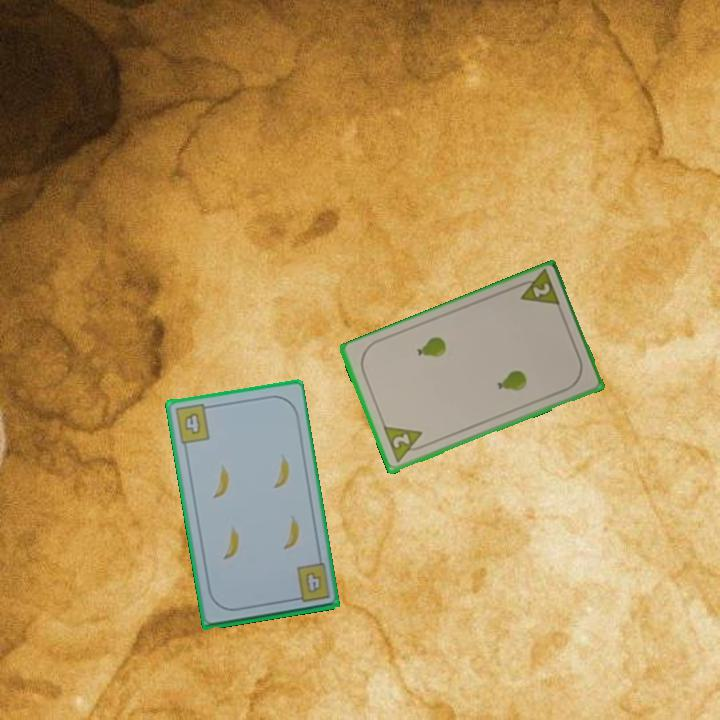2p: (511, 267, 563, 310), (379, 423, 430, 466)
4b: (288, 560, 333, 605), (171, 401, 215, 447)
